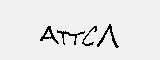А: (38, 25, 59, 45)
Л: (97, 20, 125, 53)
С: (83, 25, 98, 46)
Т: (56, 27, 71, 49), (71, 28, 84, 49)
